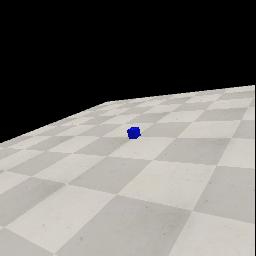box: (127, 127, 141, 139)
